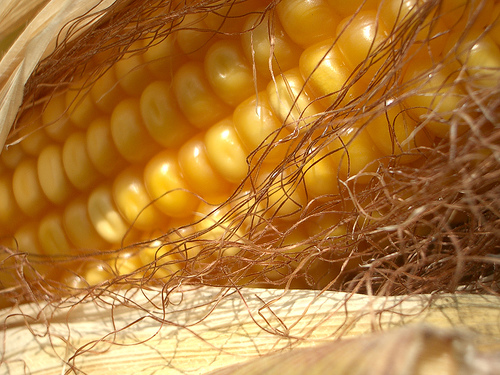corn: (0, 0, 499, 301)
